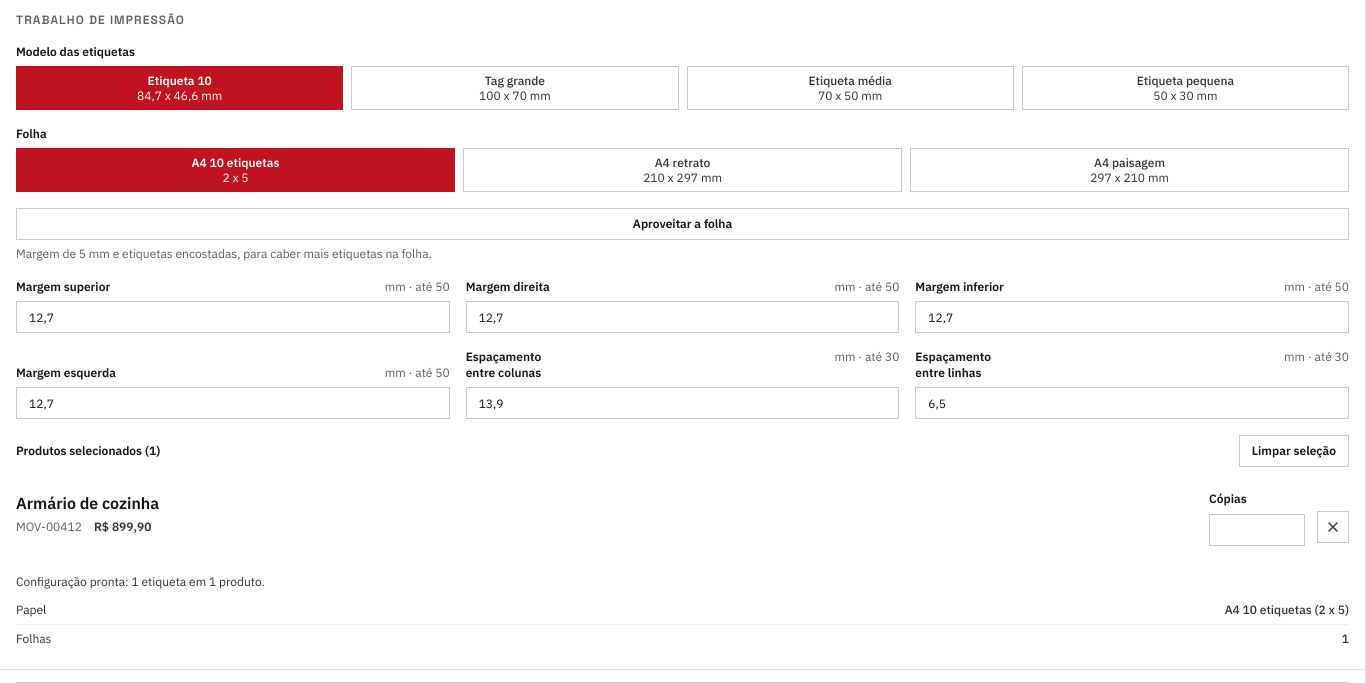
Test: quantidade por produto › nao completa sozinho o campo apagado
Clear the field labelled "Cópias". click: (1257, 530)
box: [1209, 514, 1305, 546]
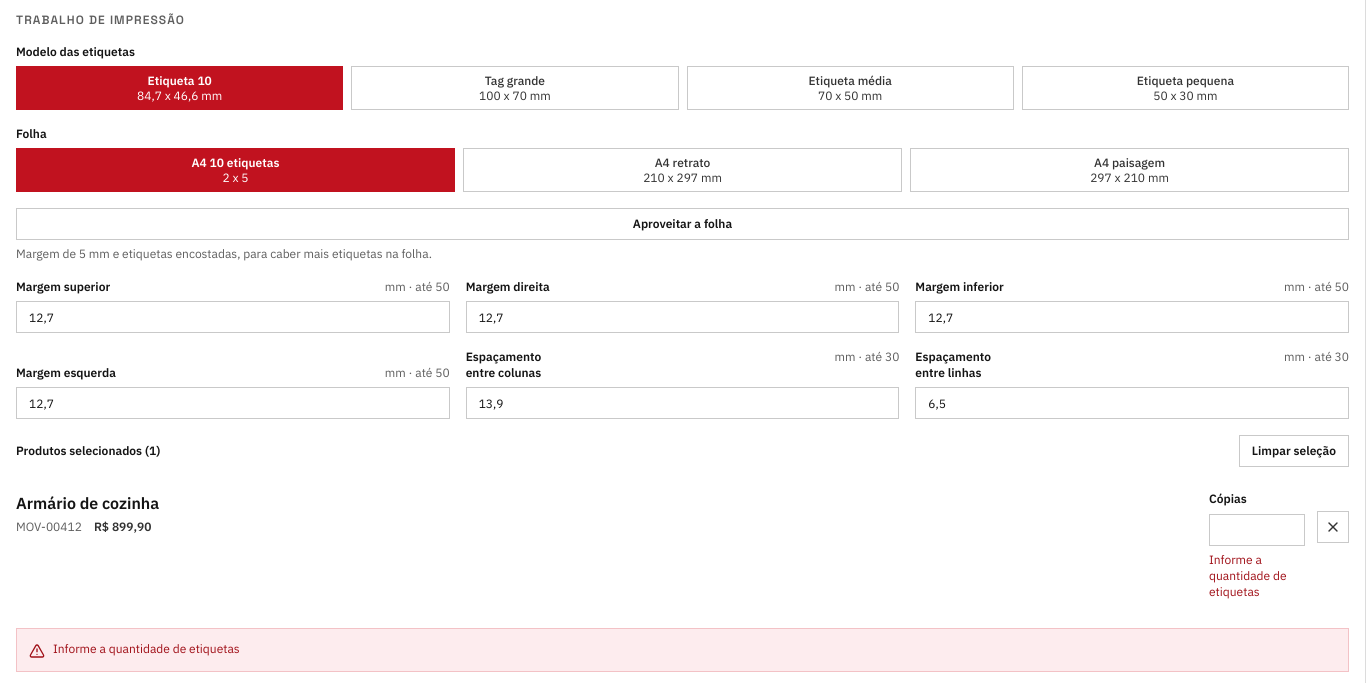
Expected: the element showing "Informe a quantidade de etiquetas" is shown, [16, 628, 1349, 672]
